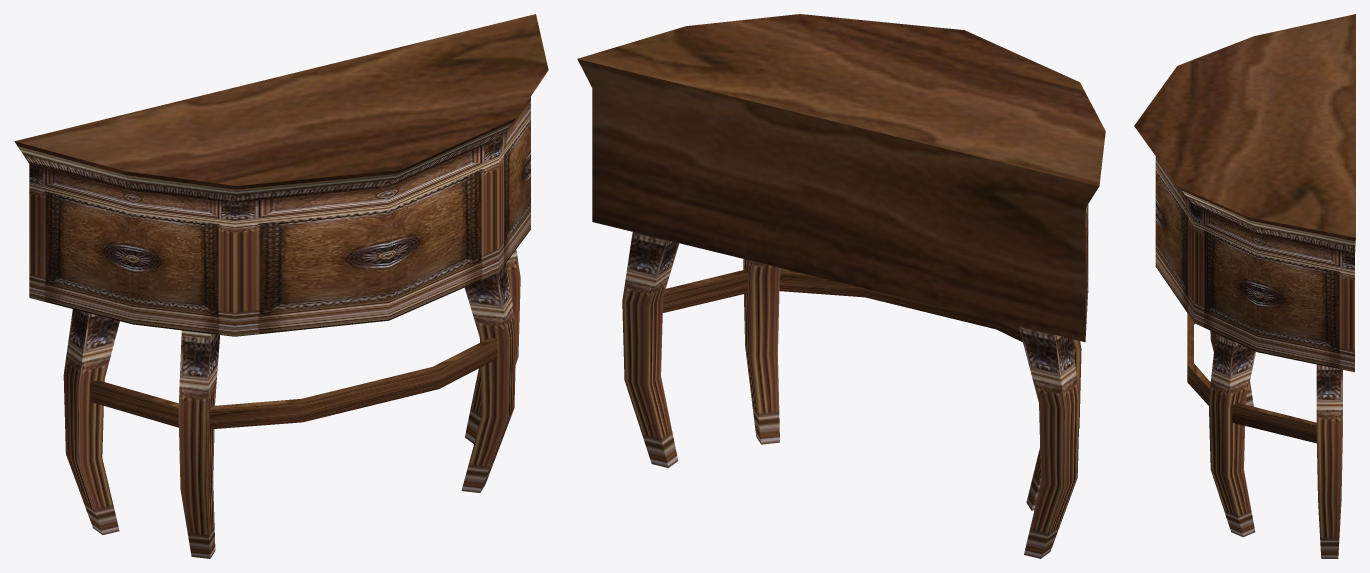
The model's file is Table07.glb.
3 renders of one model, left to right at view 1: azimuth 30°, elevation 25°; view 2: azimuth 150°, elevation 25°; view 3: azimuth 270°, elevation 25°, orthographic. The views are drawn at different scales.
Parts seen in each view (by area): view 1: _Table07; view 2: _Table07; view 3: _Table07.
Boxes of the visible parts, left/top/right/bottom form: _Table07: left=14, top=14, right=548, bottom=558; _Table07: left=577, top=14, right=1105, bottom=558; _Table07: left=1134, top=14, right=1355, bottom=558.
Bounding box in the file's own units: 1.42 × 1.03 × 0.5946.
Materials: 1 (1 with a texture image).
